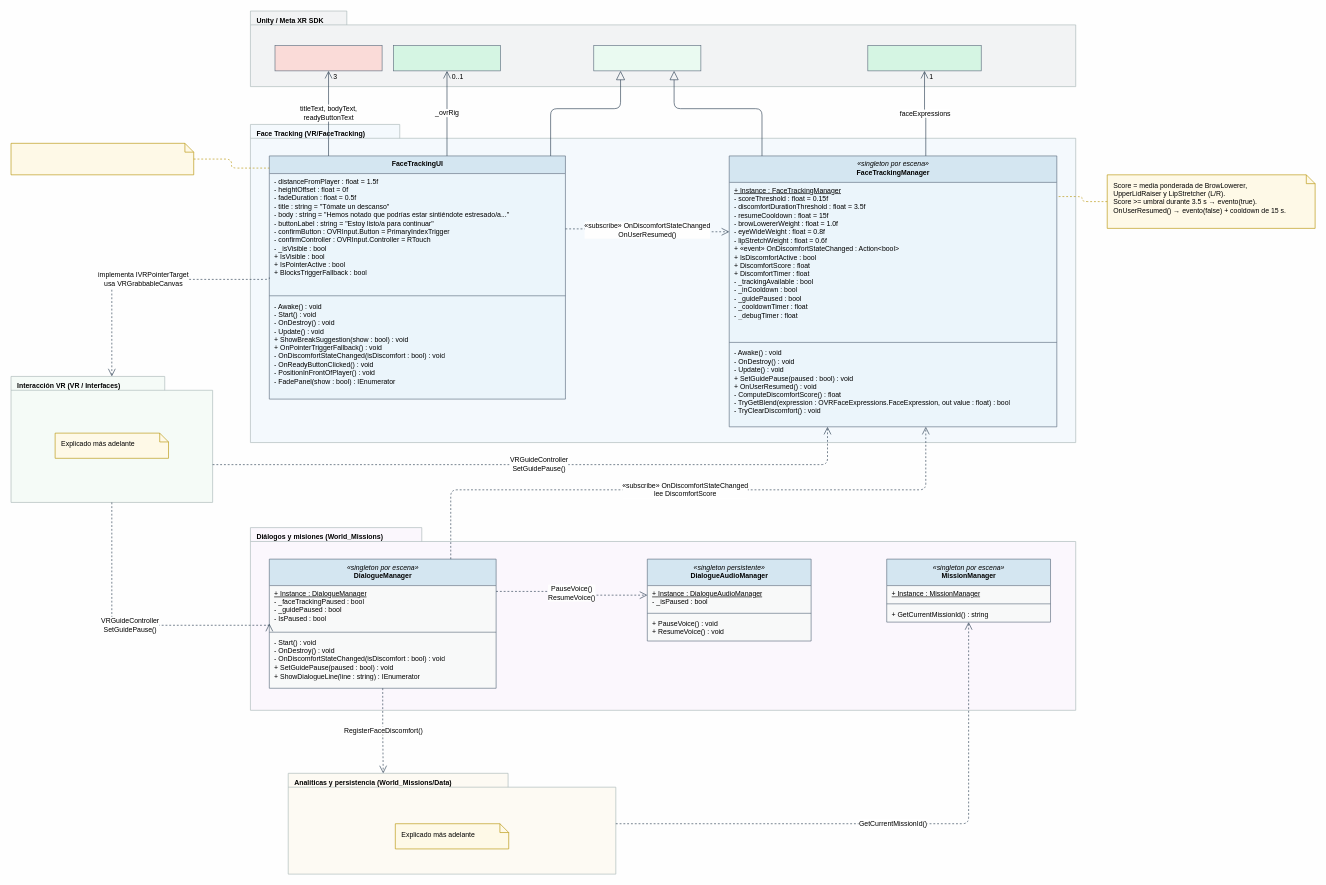
This 1326x885 diagram has some shape labels left out. Here are the shapes that lost their labels. From the top down, the centre of each, then its label:
At (328,58): "TextMeshProUGUI".
At (447,58): "OVRCameraRig".
At (647,58): "MonoBehaviour".
At (924,58): "OVRFaceExpressions".
At (102,159): "ShowBreakSuggestion(true) pausa el juego (Time.timeScale = 0).".
